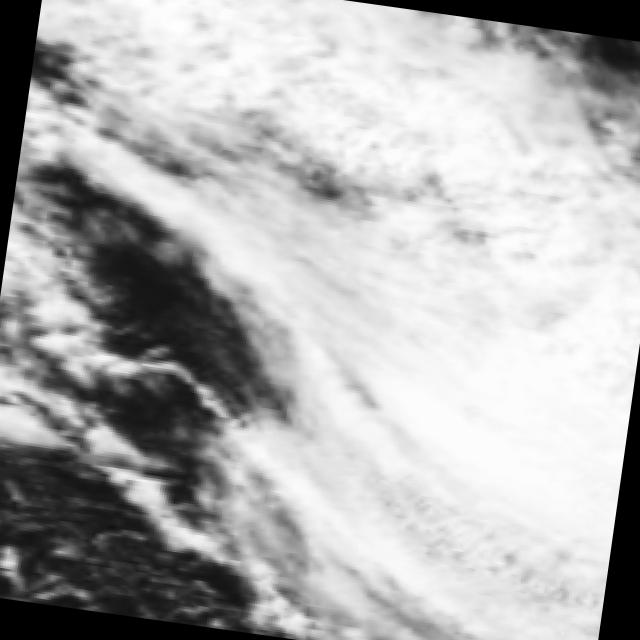CB: (359, 288, 640, 613), (154, 0, 416, 109)
